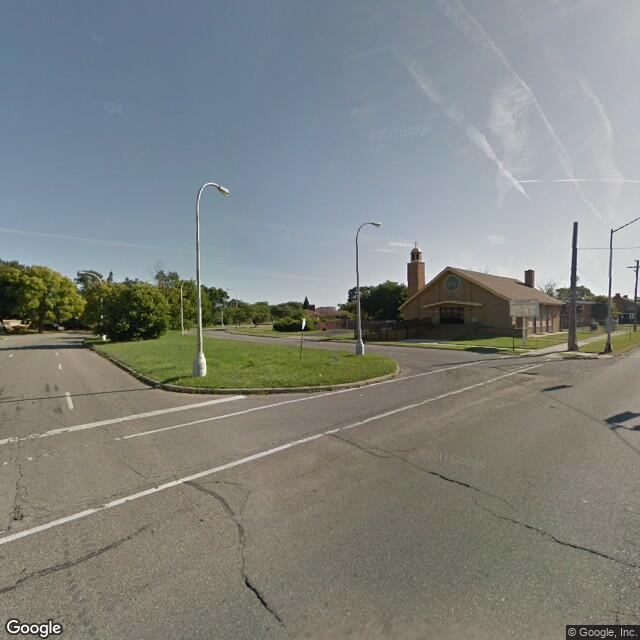litter: (314, 370, 326, 380)
